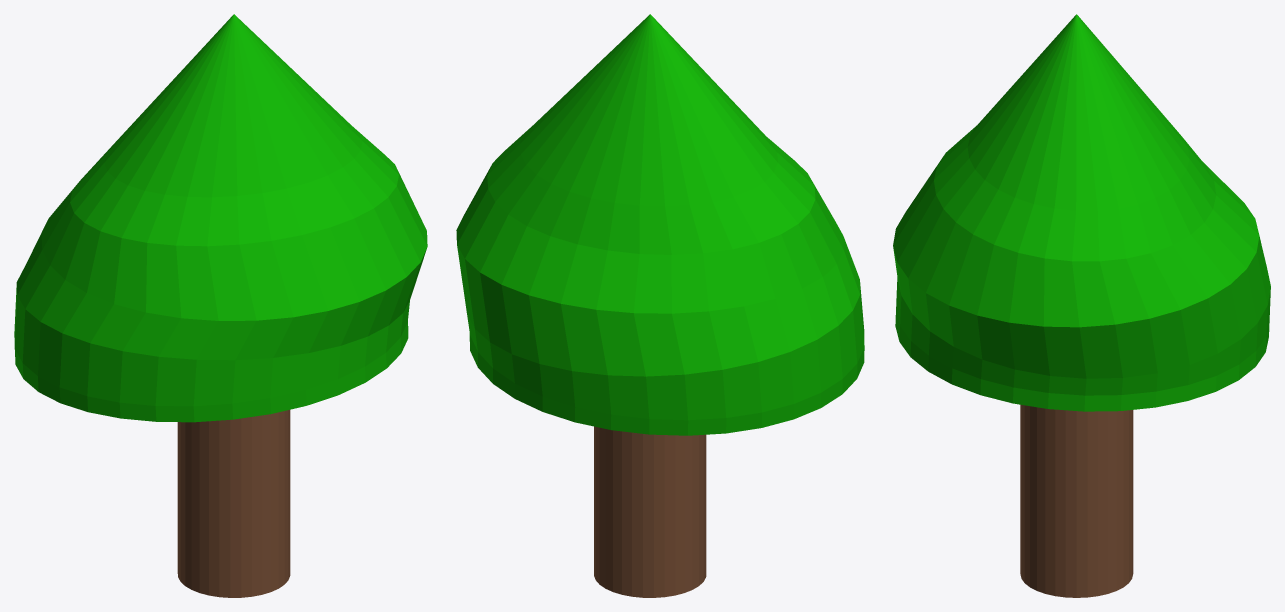
Rendered from Tree.fbx.
3 views of the same model, side by side, from view 1: azimuth 30°, elevation 25°; view 2: azimuth 150°, elevation 25°; view 3: azimuth 270°, elevation 25° (orthographic).
Parts seen in each view (by area): view 1: Cone, Cylinder; view 2: Cone, Cylinder; view 3: Cone, Cylinder.
Boxes of the visible parts, left/top/right/bottom form: Cone: left=14, top=14, right=427, bottom=422; Cylinder: left=177, top=410, right=290, bottom=597; Cone: left=456, top=14, right=864, bottom=435; Cylinder: left=594, top=426, right=706, bottom=597; Cone: left=893, top=14, right=1270, bottom=411; Cylinder: left=1020, top=404, right=1133, bottom=597.
Bounding box in the file's own units: 349 × 512 × 313.
